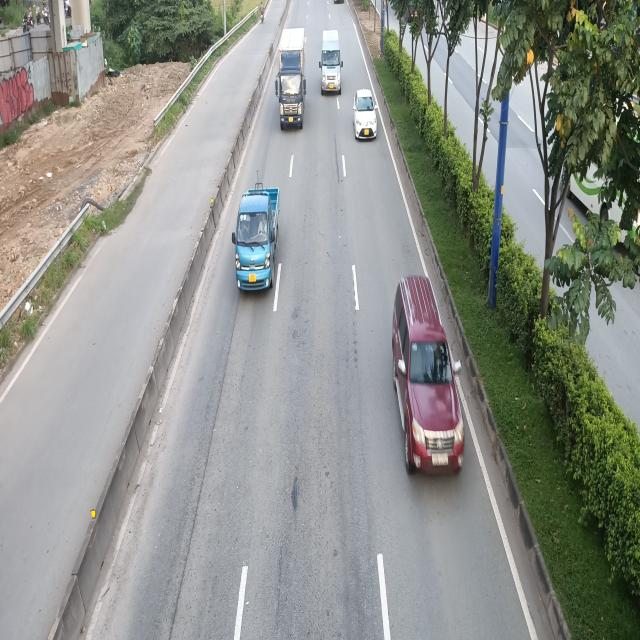car: (392, 272, 467, 477), (352, 88, 377, 140)
truck: (230, 181, 280, 293), (275, 27, 306, 131)
van: (319, 29, 343, 95)
